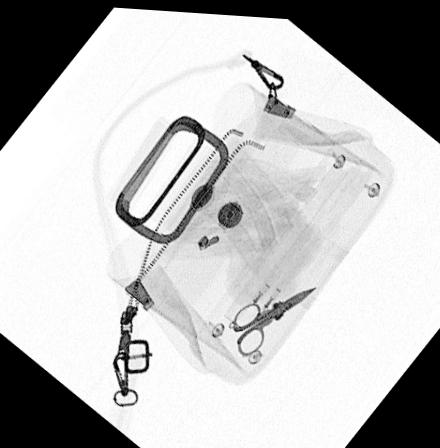Scissors: (233, 281, 318, 353)
